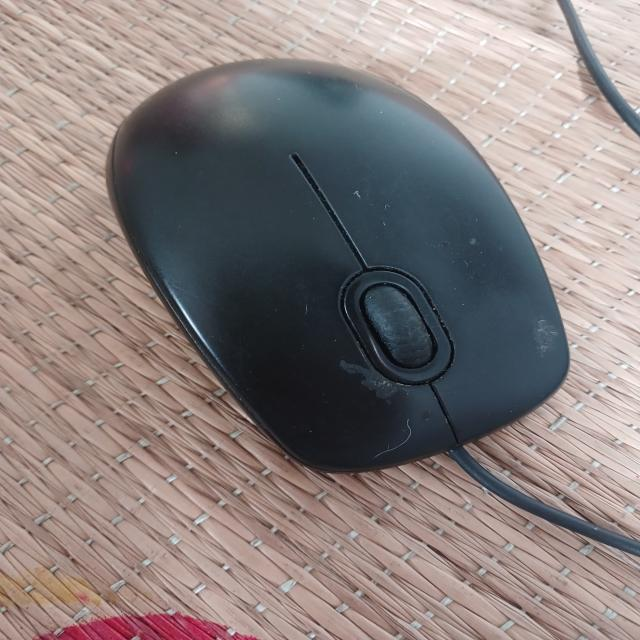mouse: (107, 55, 569, 480)
